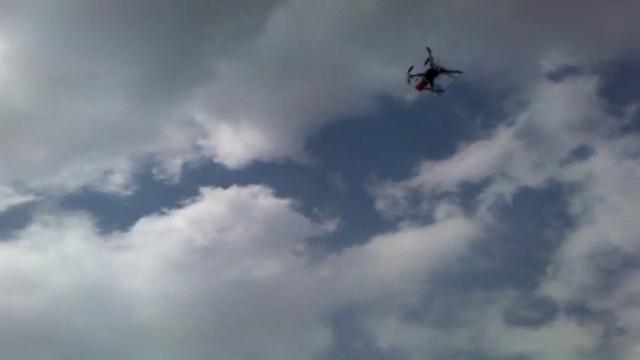drone: (404, 43, 465, 97)
